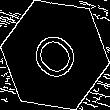O_SE: (24, 22, 86, 88)
